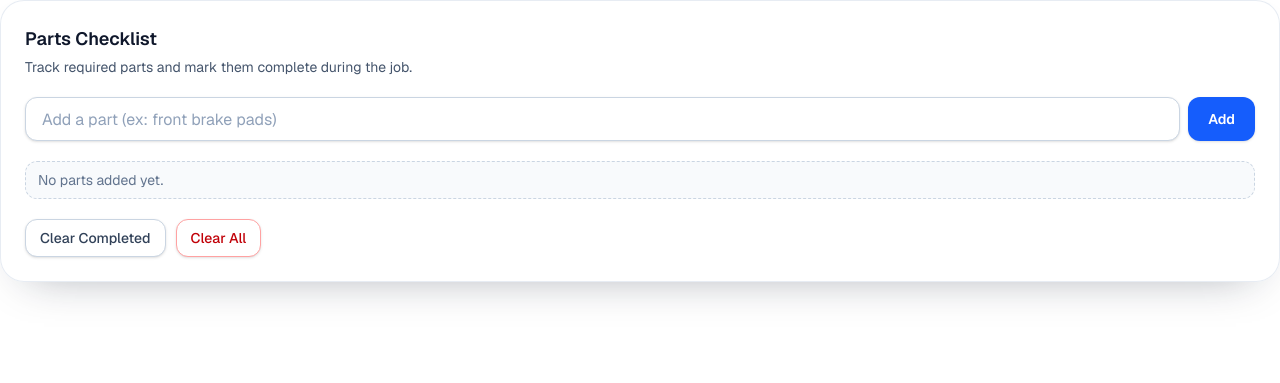
Test: PartsChecklist › clears all items
Type "Wiper Blades" into the field with placeholder "Add a part (ex: front brake pads)".
click(603, 119); type("Wiper Blades")  # box [25, 97, 1180, 141]
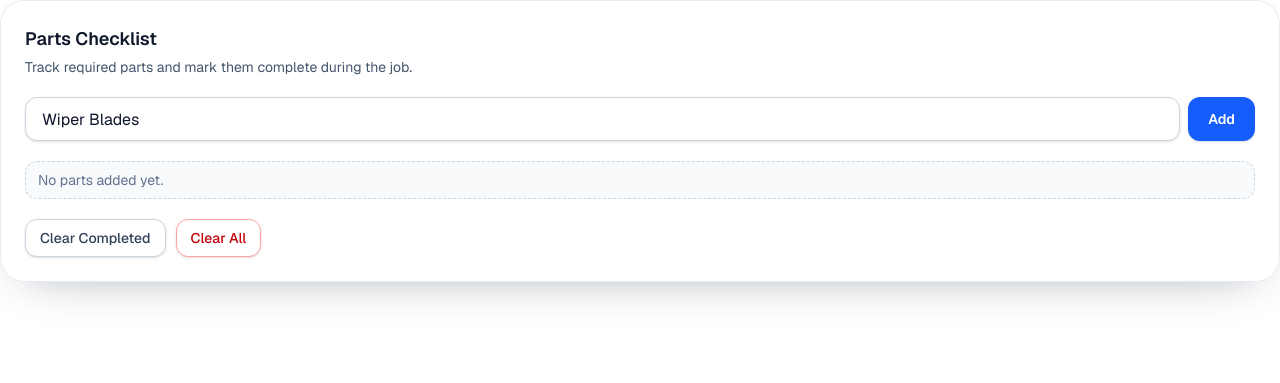
Click the button "Add".
click(1222, 119)  # box [1188, 97, 1255, 141]
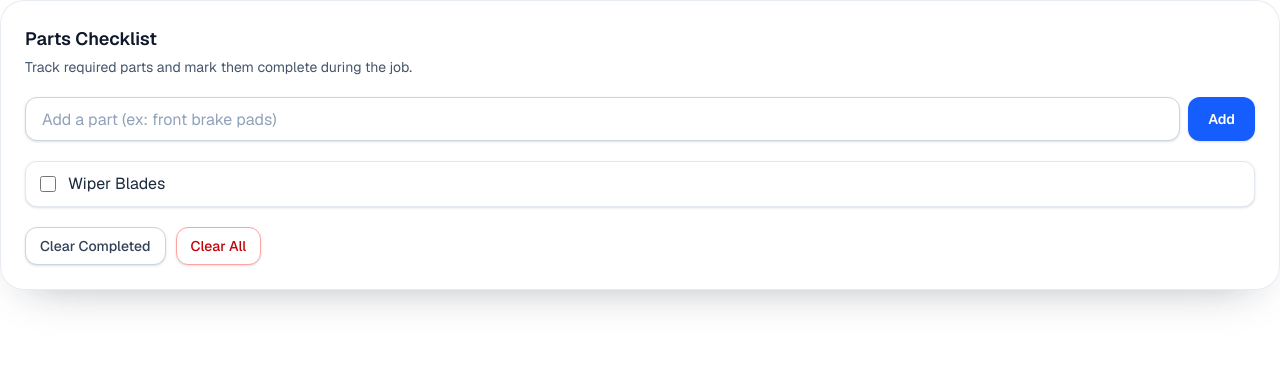
Type "Air Filter" into the field with placeholder "Add a part (ex: front brake pads)".
click(603, 119); type("Air Filter")  # box [25, 97, 1180, 141]
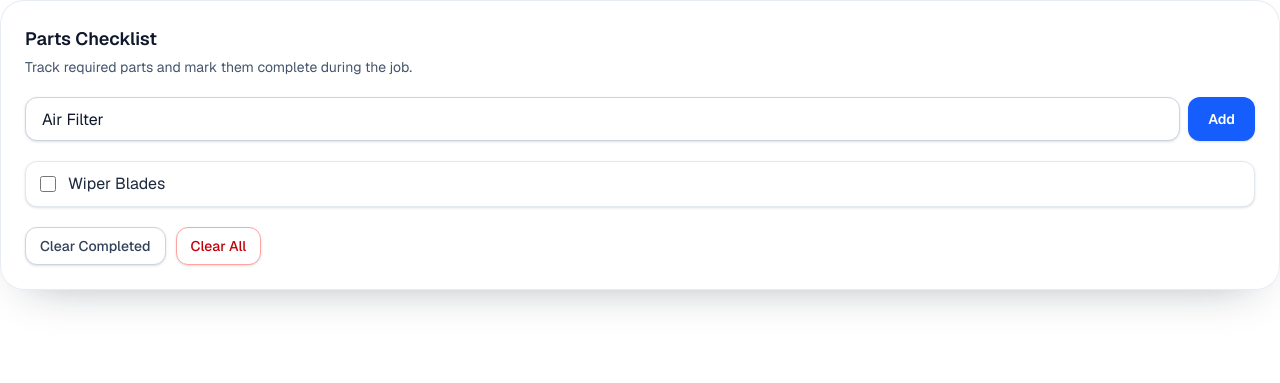
Click the button "Add".
click(1222, 119)  # box [1188, 97, 1255, 141]
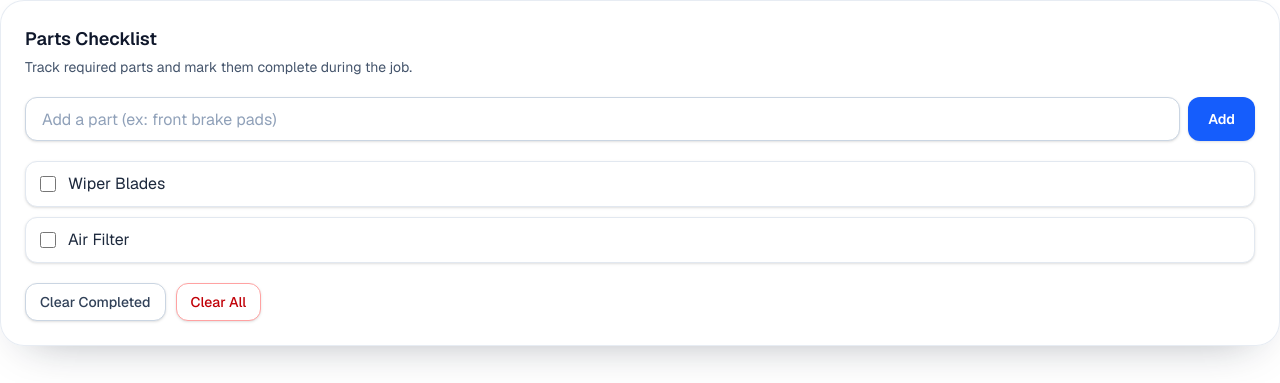
Click the button "Clear All".
click(218, 302)  # box [176, 283, 261, 321]
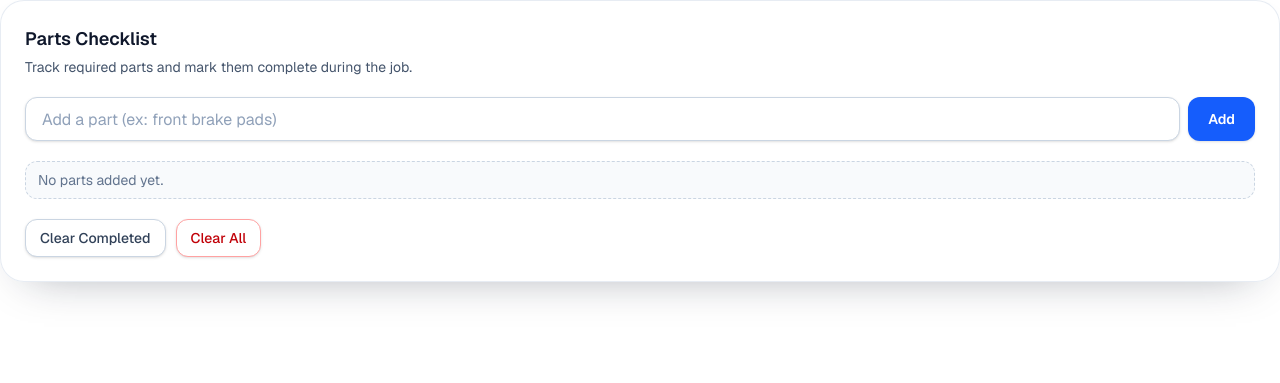
Now the text "Wiper Blades" is gone
Now the text "Air Filter" is gone
Now the text "No parts added yet." is shown, box [25, 161, 1255, 199]
